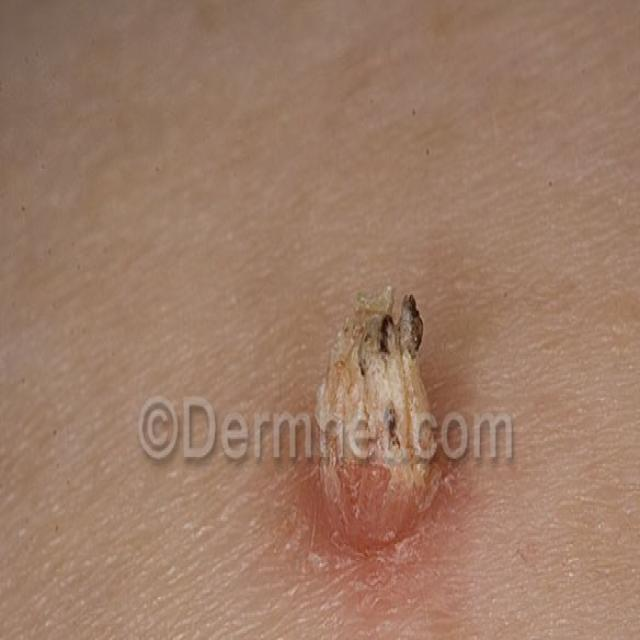Warts: (304, 252, 451, 580)
